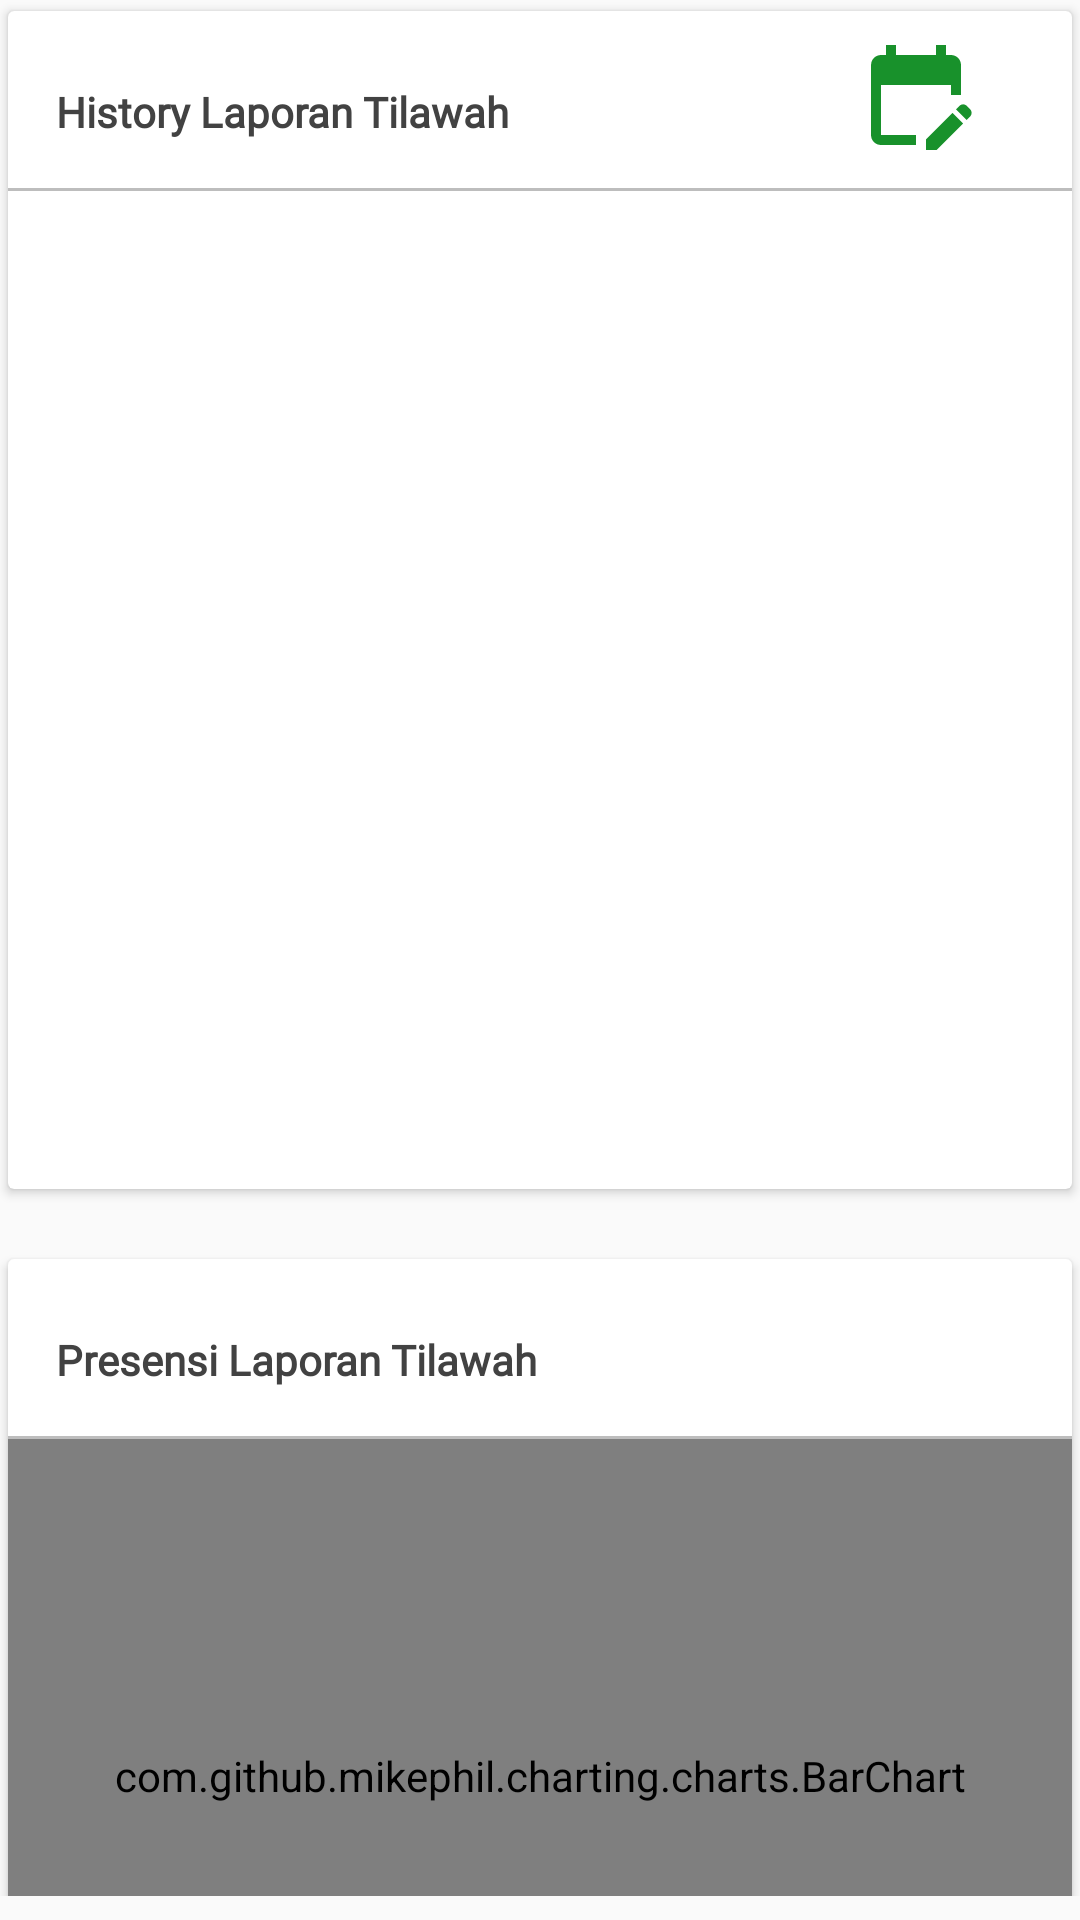

Screen size 1080 x 1920. Icon name, then its box in pixels as {"left": x1, "top": y1, "right": x2, "bottom": y2}:
edit calendar: {"left": 871, "top": 45, "right": 972, "bottom": 150}
